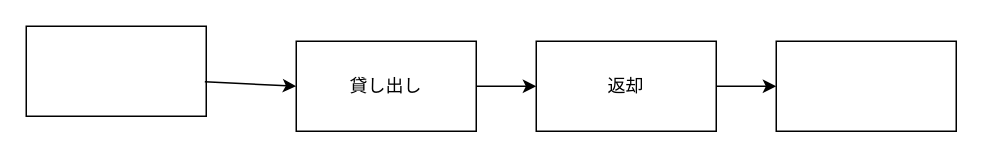
Some shapes in this 983 by 158 pixel diagram are drawn without their labels. The shapes that lost their labels are listed below. From the top down, each one's centre as x and y in pixels, then its label:
(115,70): 予約
(865,85): 返却済み
